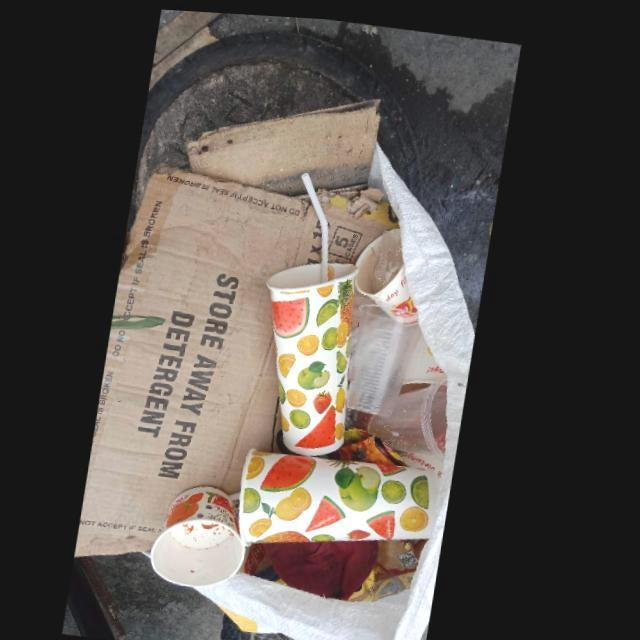cardboard: (85, 162, 327, 556), (248, 442, 441, 541), (189, 94, 383, 189), (273, 256, 361, 451), (160, 484, 256, 583), (357, 220, 424, 317), (324, 184, 400, 256), (407, 325, 454, 388)
plastic_container: (354, 300, 423, 411), (365, 374, 455, 454)
